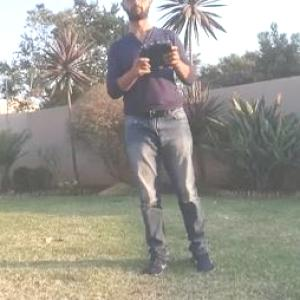follow: (99, 0, 220, 280)
